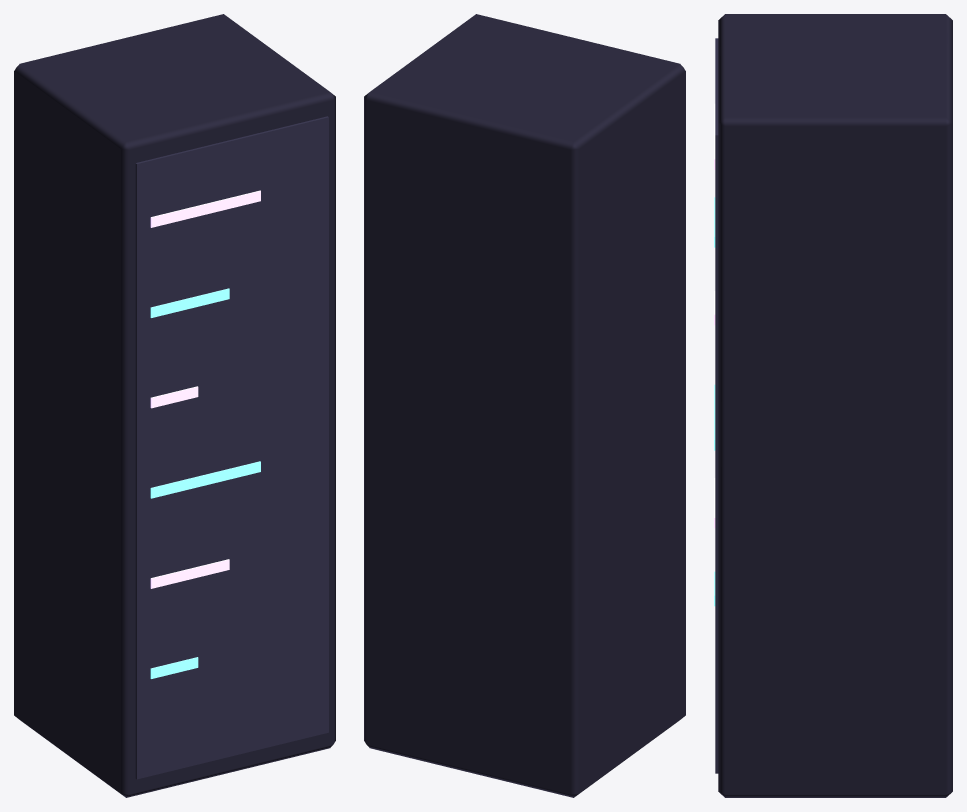
File: station_special_ausstattung_1_3.glb
3 renders of one model, left to right at view 1: azimuth 30°, elevation 25°; view 2: azimuth 150°, elevation 25°; view 3: azimuth 270°, elevation 25°, orthographic. The views are drawn at different scales.
Parts seen in each view (by area): view 1: station_special_ausstattung_1_3; view 2: station_special_ausstattung_1_3; view 3: station_special_ausstattung_1_3.
Boxes of the visible parts, bbox=[...] form: station_special_ausstattung_1_3: bbox=[14, 14, 335, 797]; station_special_ausstattung_1_3: bbox=[364, 14, 685, 797]; station_special_ausstattung_1_3: bbox=[714, 14, 952, 797].
Size of the model in its own units: 0.55 by 1.6 by 0.509.
